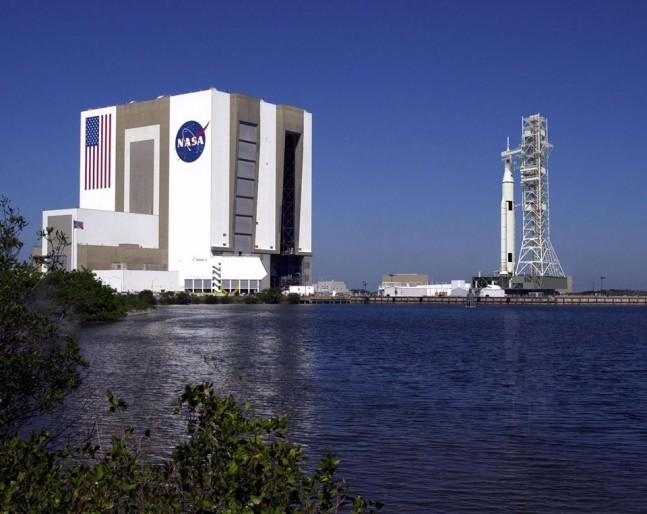NASA: (168, 121, 208, 164)
